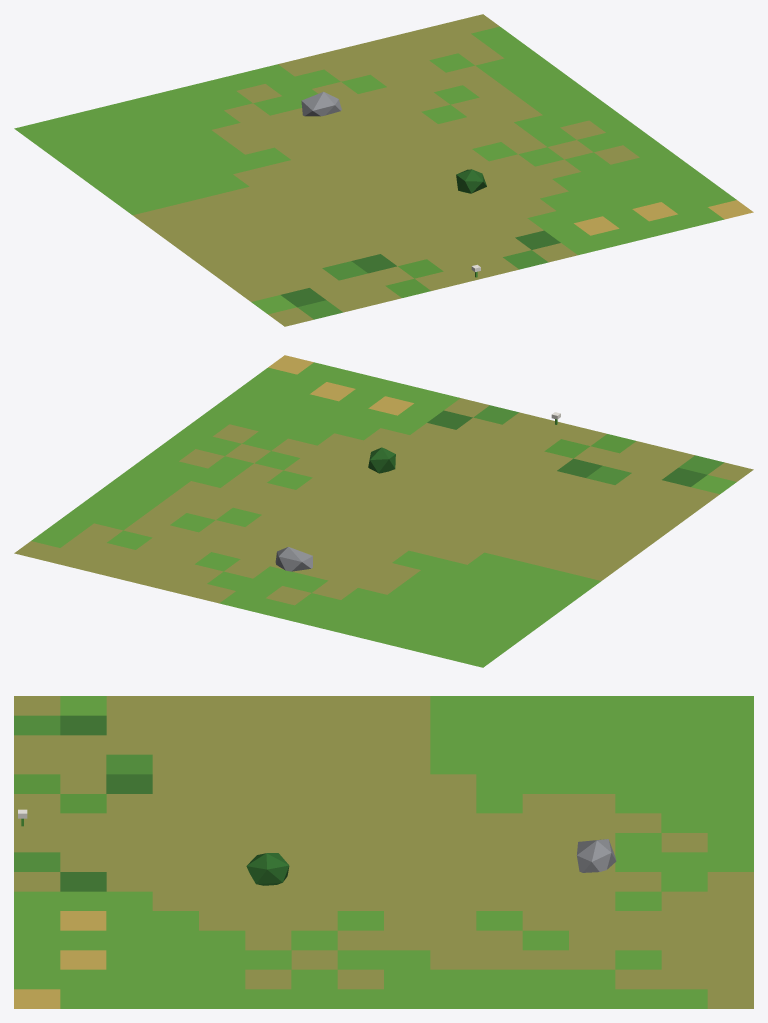
Rendered from chunk_8_6.glb.
The picture shows the model from 3 angles, top to bottom: view 1: azimuth 30°, elevation 25°; view 2: azimuth 150°, elevation 25°; view 3: azimuth 270°, elevation 25°; orthographic projection. The views are drawn at different scales.
Parts seen in each view (by area): view 1: chunk_8_6; view 2: chunk_8_6; view 3: chunk_8_6.
Boxes of the visible parts, bbox=[...] form: chunk_8_6: bbox=[14, 14, 753, 326]; chunk_8_6: bbox=[14, 355, 753, 667]; chunk_8_6: bbox=[14, 696, 753, 1008].
Bounding box in the file's own units: 16 × 1.07 × 16.
